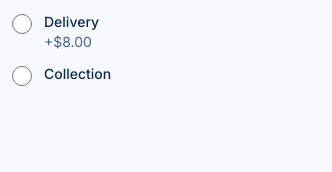
Test: RadioGroup + RadioItem › only one radio checked at a time
Step 1. Click the radio button labelled "Delivery" → (22, 24), box [12,14,32,34]
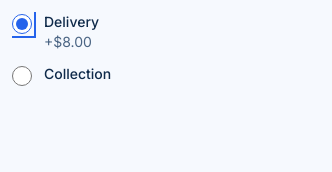
Step 2. Click the radio button labelled "Collection" → (22, 76), box [12,66,32,86]
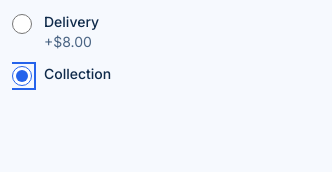
Expected: the radio button labelled "Delivery" is not checked, [12,14,32,34]
Expected: the radio button labelled "Collection" is checked, [12,66,32,86]
